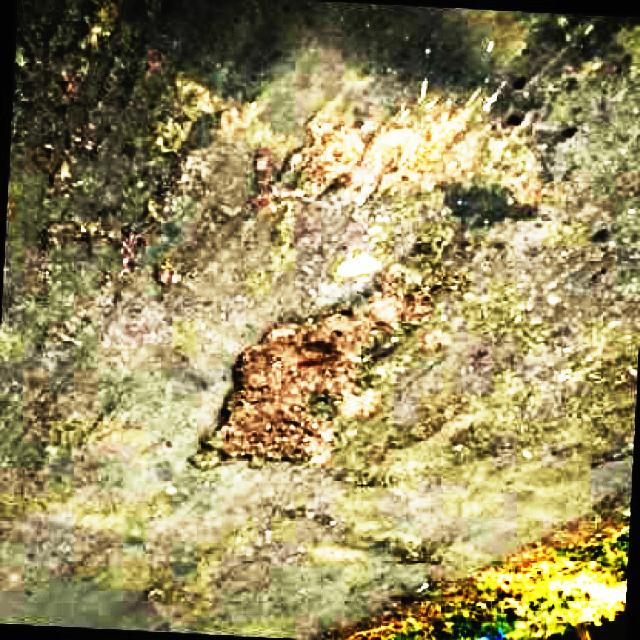pothole: (189, 280, 440, 471), (297, 105, 488, 197)
